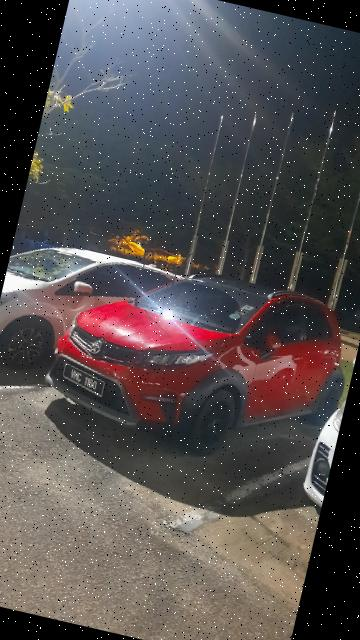License_Plate: (55, 359, 116, 404)
car: (40, 238, 360, 485), (1, 228, 214, 407)
